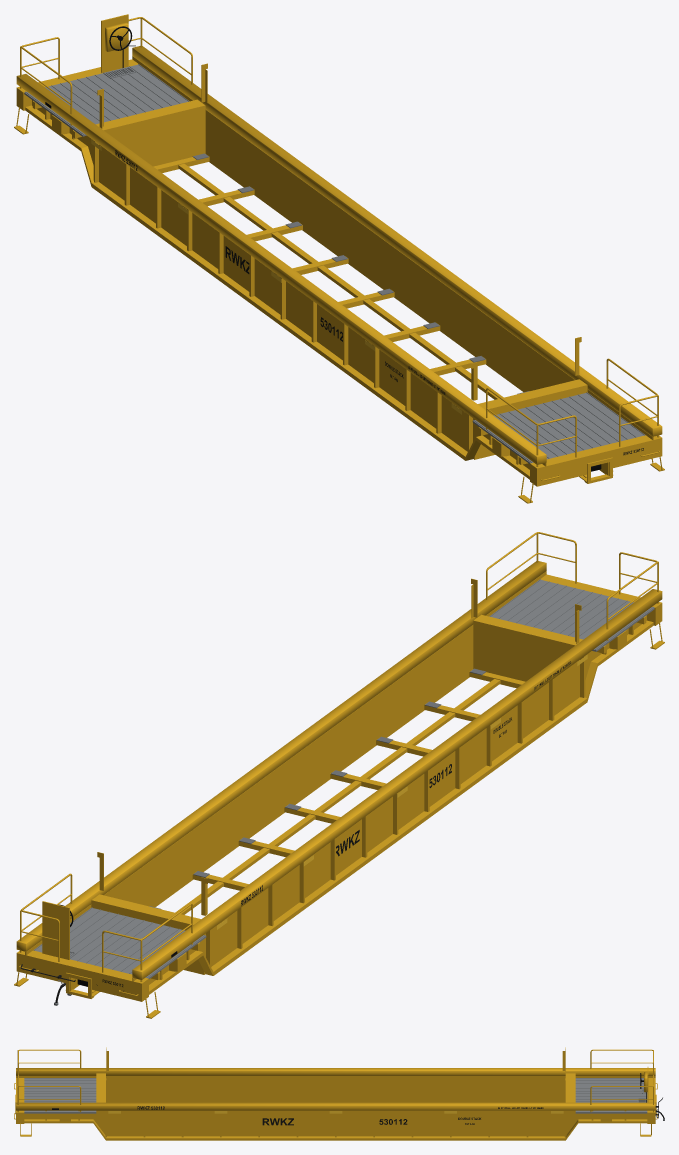
The model's file is body_rwkz.glb.
3 views of the same model, one above another, from view 1: azimuth 30°, elevation 25°; view 2: azimuth 150°, elevation 25°; view 3: azimuth 270°, elevation 25° (orthographic). The views are drawn at different scales.
Parts seen in each view (by area): view 1: Body, Frame, Grating, Grab, Lettering; view 2: Body, Frame, Grating, Grab; view 3: Body, Grating, Frame, Grab, Lettering, Reflector.
Boxes of the visible parts, <box> form: Body: <box>16,14,662,486</box>; Frame: <box>16,22,662,486</box>; Grating: <box>24,64,645,463</box>; Grab: <box>14,17,664,503</box>; Lettering: <box>115,150,643,455</box>; Body: <box>16,561,662,1001</box>; Frame: <box>16,574,662,1001</box>; Grating: <box>33,579,654,978</box>; Grab: <box>14,532,664,1018</box>; Body: <box>16,1067,655,1140</box>; Grating: <box>24,1078,647,1113</box>; Frame: <box>15,1047,656,1123</box>; Grab: <box>14,1049,657,1136</box>; Lettering: <box>137,1106,543,1125</box>; Reflector: <box>108,1111,563,1113</box>.
Bounding box in the file's own units: 3.46 × 2.37 × 23.1.
